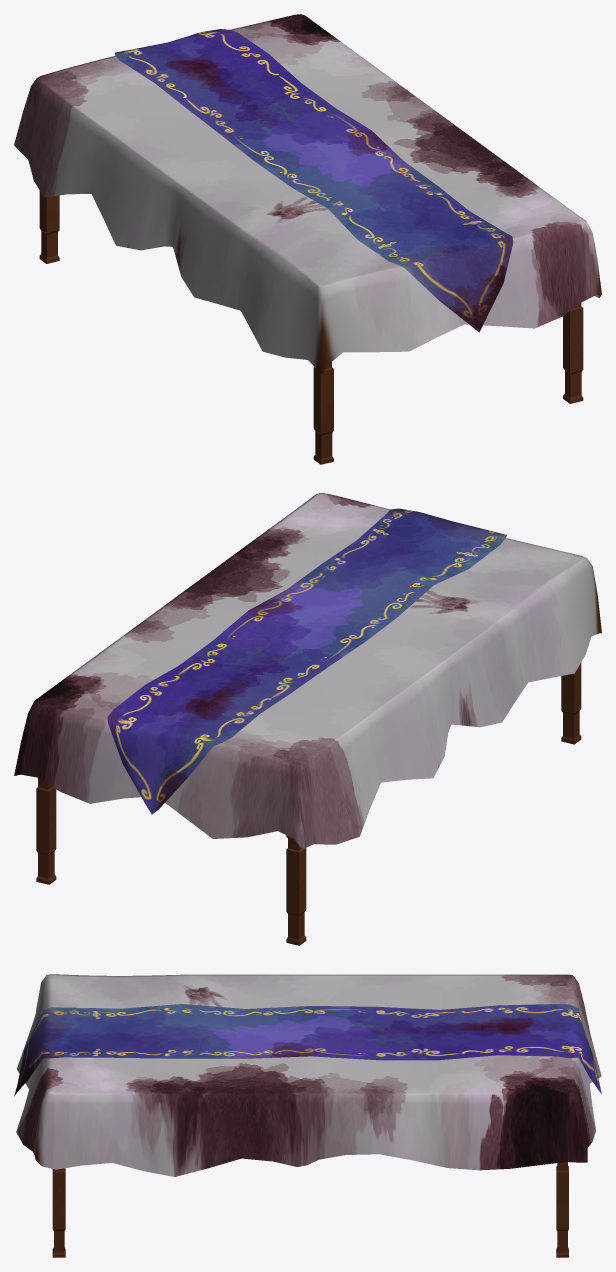
File: table_big.fbx
3 views of the same model, one above another, from view 1: azimuth 30°, elevation 25°; view 2: azimuth 150°, elevation 25°; view 3: azimuth 270°, elevation 25° (orthographic). The views are drawn at different scales.
Parts seen in each view (by area): view 1: table_cloth, table_cloth2, table; view 2: table_cloth, table_cloth2, table; view 3: table_cloth, table_cloth2, table.
Boxes of the visible parts, x1,y1,x2,y2 form: table_cloth: [14, 14, 601, 374]; table_cloth2: [115, 29, 513, 332]; table: [39, 191, 583, 464]; table_cloth: [14, 493, 601, 848]; table_cloth2: [107, 508, 506, 814]; table: [36, 663, 581, 945]; table_cloth: [16, 974, 601, 1176]; table_cloth2: [14, 1004, 601, 1096]; table: [52, 1162, 568, 1257].
Size of the model in its own units: 18.89 by 10.61 by 33.11.
